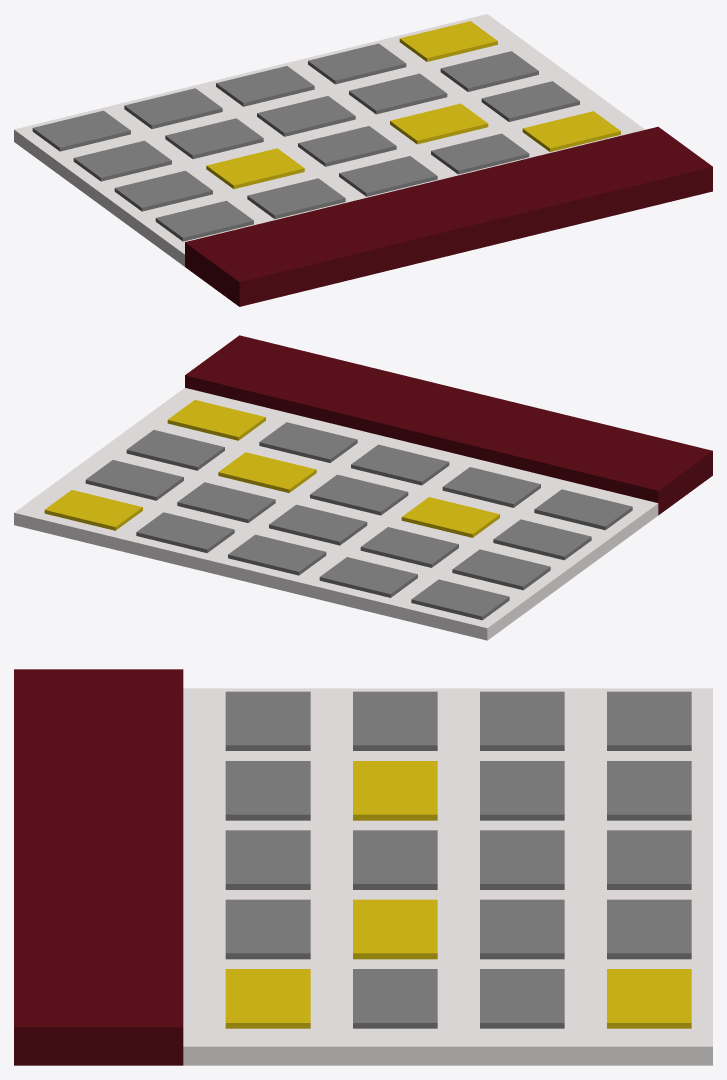
File: calendario v1.fbx
3 renders of one model, top to bottom at view 1: azimuth 30°, elevation 25°; view 2: azimuth 150°, elevation 25°; view 3: azimuth 270°, elevation 25°, orthographic. The views are drawn at different scales.
Parts seen in each view (by area): view 1: casella (×20), sopra, bianco; view 2: casella (×20), bianco, sopra; view 3: casella (×20), bianco, sopra.
Part boxes in pixels (x1,y1,x2,y2): casella (×20): [32, 21, 620, 241]; sopra: [185, 126, 712, 306]; bianco: [14, 14, 645, 266]; casella (×20): [44, 400, 632, 620]; bianco: [14, 388, 658, 640]; sopra: [185, 335, 712, 515]; casella (×20): [225, 691, 691, 1028]; bianco: [183, 688, 712, 1065]; sopra: [14, 669, 183, 1065].
Bounding box in the file's own units: 40 × 33 × 2.
